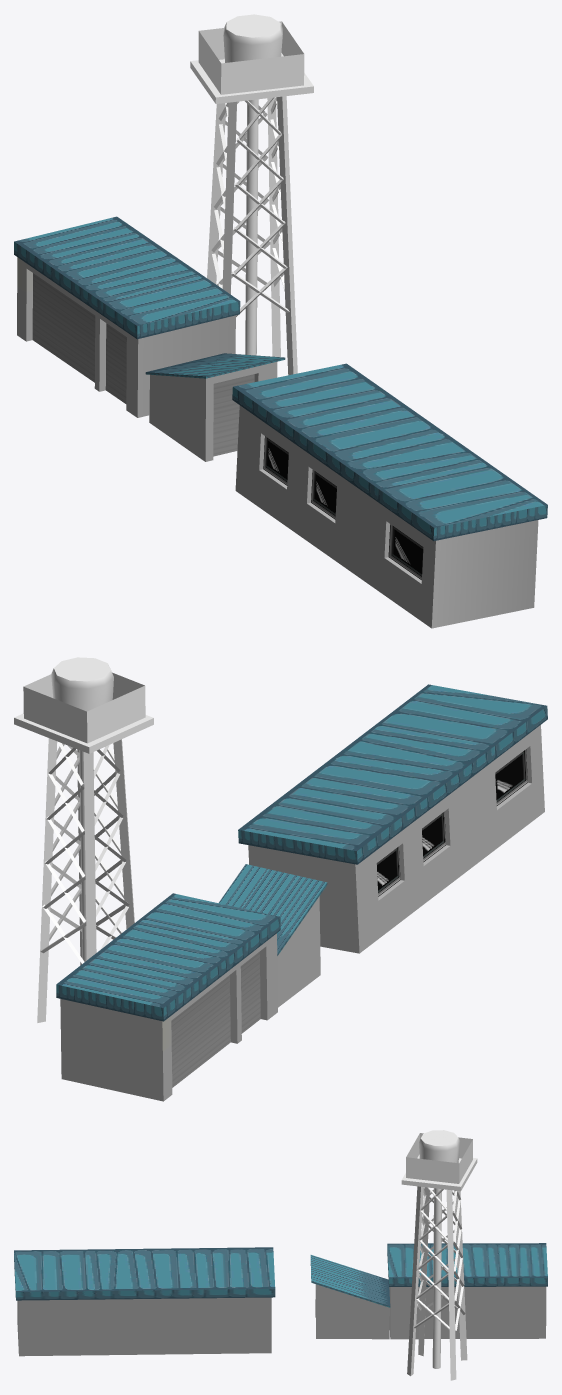
File: Home_1.fbx
3 renders of one model, top to bottom at view 1: azimuth 30°, elevation 25°; view 2: azimuth 150°, elevation 25°; view 3: azimuth 270°, elevation 25°, orthographic. The views are drawn at different scales.
Parts seen in each view (by area): view 1: Home_1; view 2: Home_1; view 3: Home_1.
Part boxes in pixels (x1=…): Home_1: x1=14, y1=14, x2=547, y2=628; Home_1: x1=14, y1=657, x2=547, y2=1101; Home_1: x1=14, y1=1130, x2=547, y2=1380.
Bounding box in the file's own units: 8.89 × 13.96 × 29.19.
